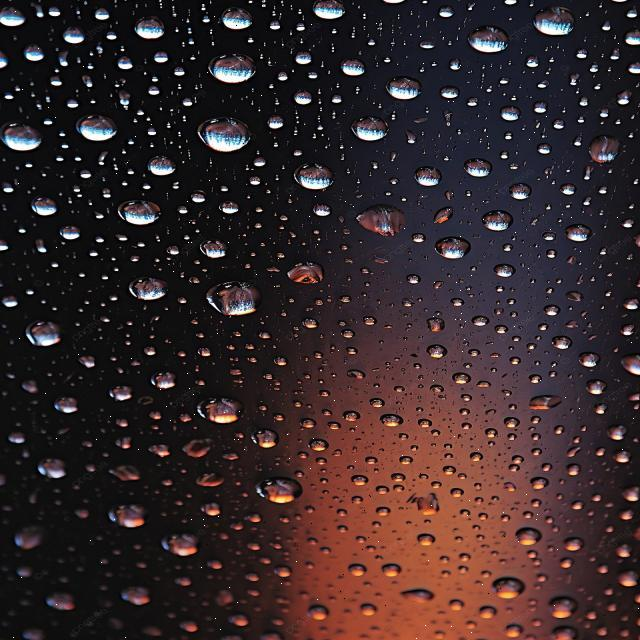raindrop: (247, 471, 318, 526), (358, 196, 427, 250), (202, 270, 271, 322), (197, 105, 260, 161), (525, 0, 590, 47), (294, 154, 352, 202), (66, 109, 129, 152), (18, 306, 74, 354), (105, 192, 169, 234), (188, 391, 250, 434), (344, 103, 398, 152), (274, 246, 334, 288), (460, 17, 519, 59), (214, 1, 268, 46), (0, 115, 47, 163), (426, 229, 482, 269), (207, 48, 260, 90), (158, 529, 214, 568), (34, 581, 90, 619), (34, 450, 82, 494), (110, 578, 166, 615), (372, 71, 425, 110), (580, 128, 625, 172), (2, 515, 46, 558), (105, 499, 150, 541), (122, 270, 177, 302), (293, 0, 360, 26), (402, 488, 448, 524), (477, 205, 524, 240), (555, 220, 604, 252), (398, 156, 444, 190), (432, 73, 477, 107), (540, 590, 586, 622), (392, 580, 442, 609), (602, 414, 640, 452), (487, 572, 527, 608), (193, 229, 236, 262), (0, 0, 39, 36), (240, 423, 288, 452), (508, 520, 546, 556), (134, 13, 178, 44), (372, 406, 416, 436), (498, 176, 539, 208), (143, 146, 177, 184), (410, 314, 453, 344), (542, 332, 582, 364), (566, 344, 608, 374), (518, 390, 564, 417), (462, 153, 499, 186), (492, 100, 530, 132), (48, 391, 84, 424), (295, 429, 333, 459), (57, 20, 94, 50), (105, 380, 141, 410), (556, 532, 596, 558), (336, 50, 369, 80), (376, 556, 408, 586), (404, 526, 444, 550), (143, 370, 184, 393), (347, 555, 374, 589), (31, 190, 66, 216), (612, 346, 640, 378), (608, 482, 640, 510), (287, 44, 321, 70), (492, 259, 524, 286), (525, 475, 556, 502), (303, 600, 333, 626), (617, 288, 640, 320), (57, 220, 84, 247), (425, 344, 457, 366), (538, 298, 566, 322), (585, 374, 613, 396), (472, 310, 495, 328), (294, 84, 312, 105)
